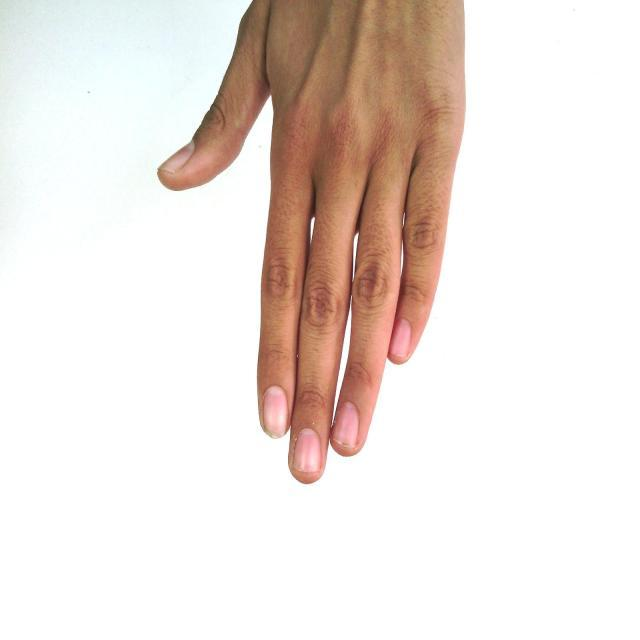Fingernail: (293, 428, 321, 473), (263, 387, 288, 437), (333, 402, 359, 446), (160, 144, 192, 172), (391, 321, 411, 357)
